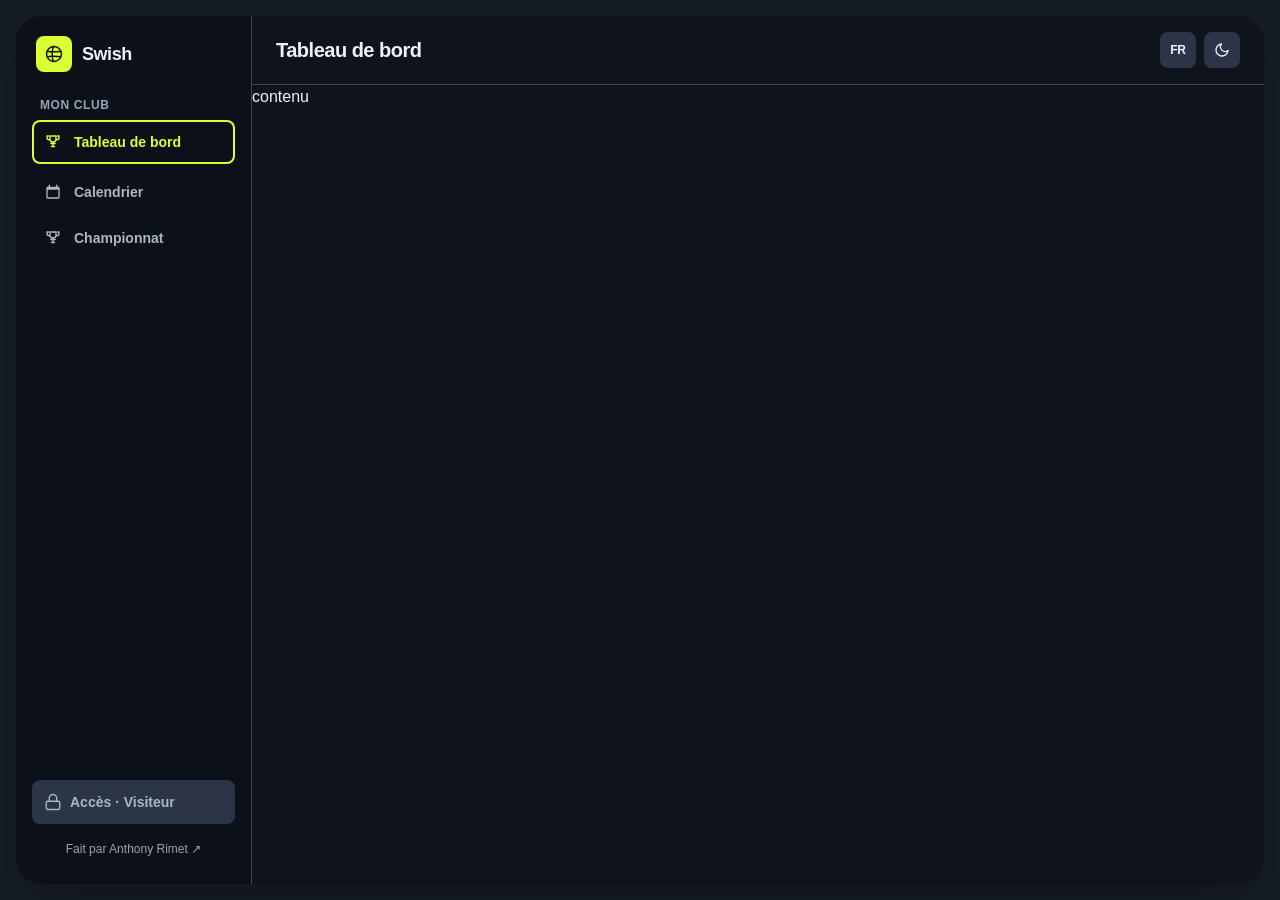
Scenario: the access entry point › states the current role, takes another on entering a code and closes, and locks
Click the button "Accès · Visiteur" at (134, 802), box top-left (32, 780), bottom-right (235, 824)
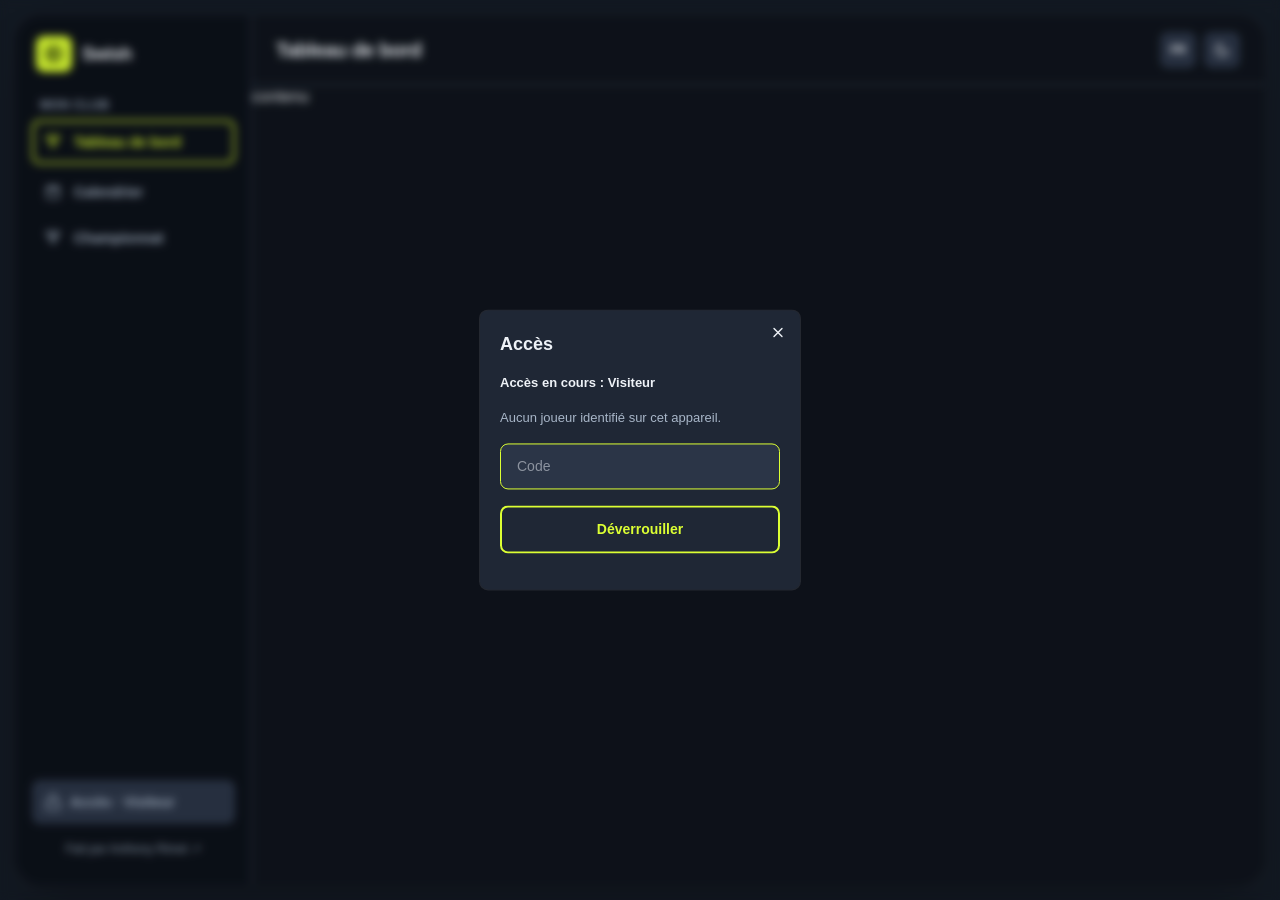
Result: the text "Accès en cours : Visiteur" is shown at top-left (500, 375), bottom-right (655, 390)
Type "marque" into the password field named "Code d’accès" at (640, 467), box top-left (500, 444), bottom-right (780, 490)
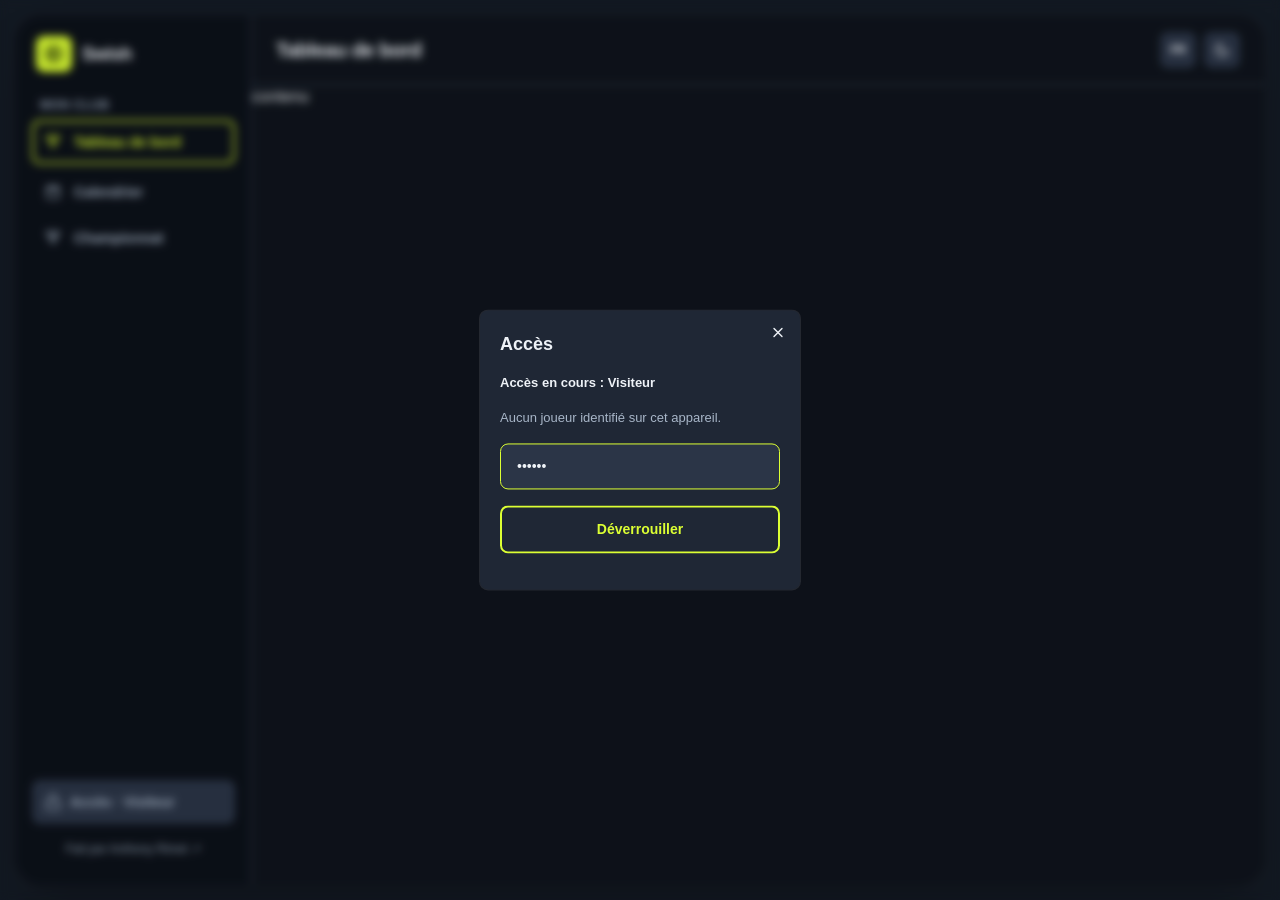
Click the button "Déverrouiller" at (640, 530), box top-left (500, 506), bottom-right (780, 554)
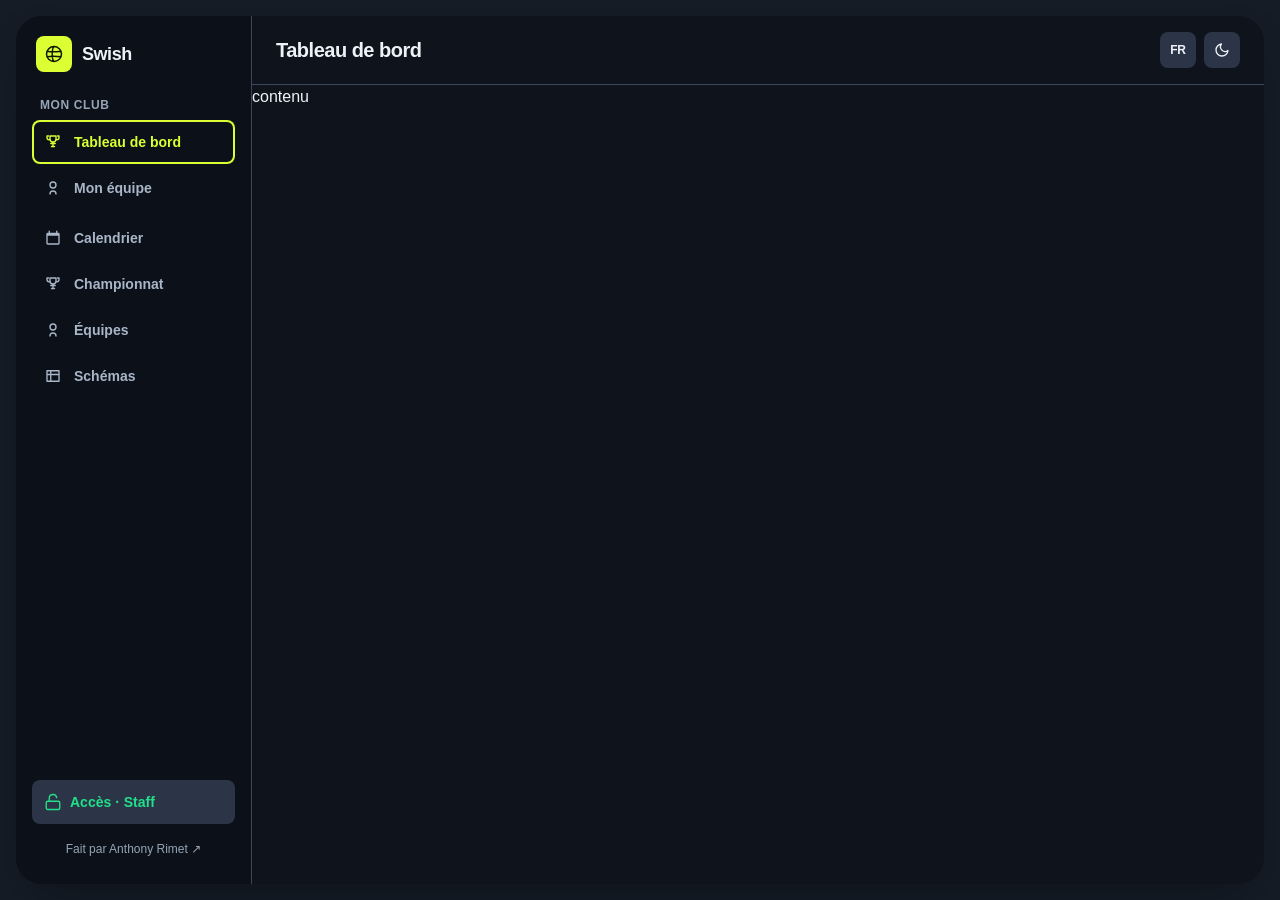
Result: the button "Accès · Staff" is shown
Click the button "Accès · Staff" at (134, 802), box top-left (32, 780), bottom-right (235, 824)
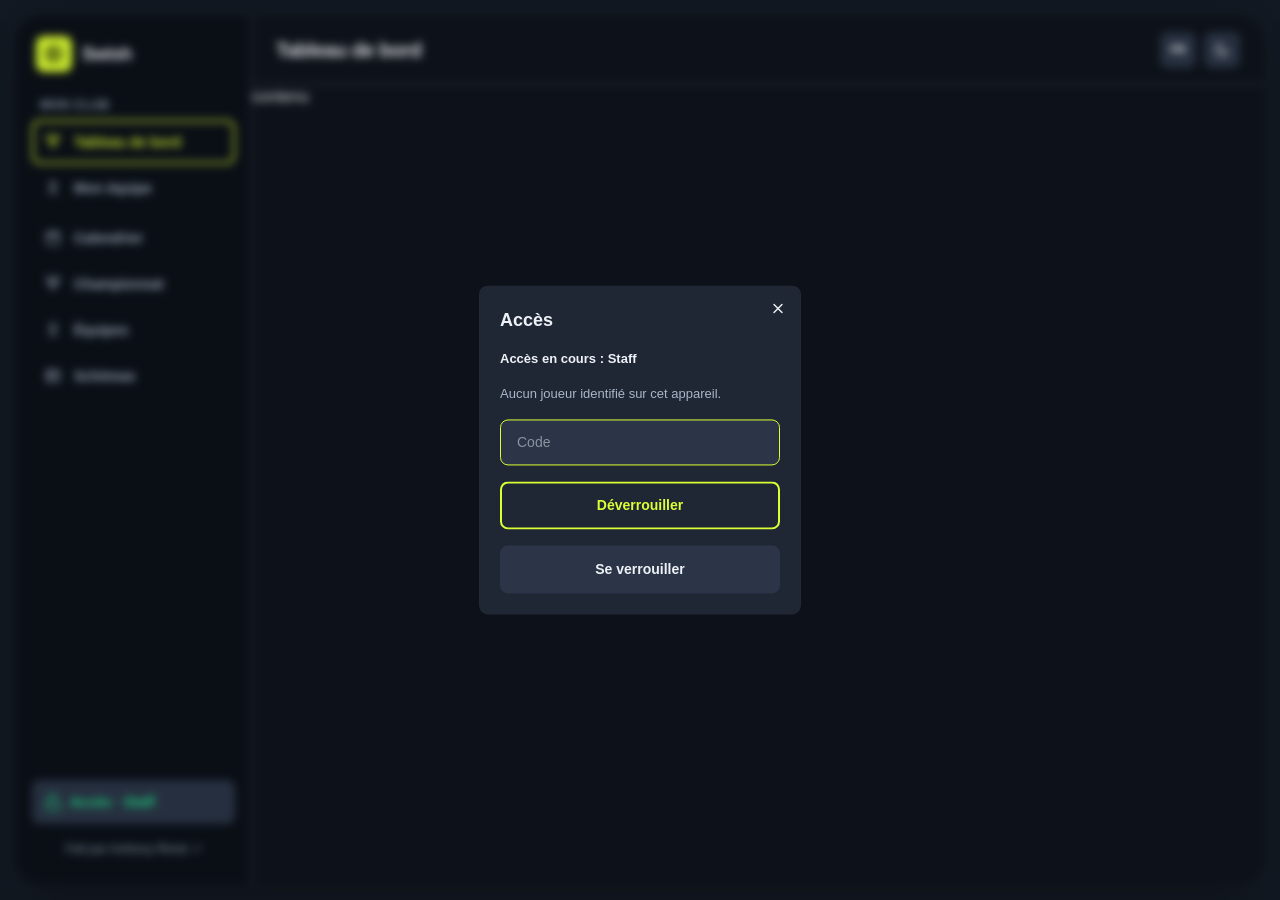
Result: the text "Accès en cours : Staff" is shown at top-left (500, 351), bottom-right (636, 366)
Click the button "Se verrouiller" at (640, 570), box top-left (500, 546), bottom-right (780, 594)
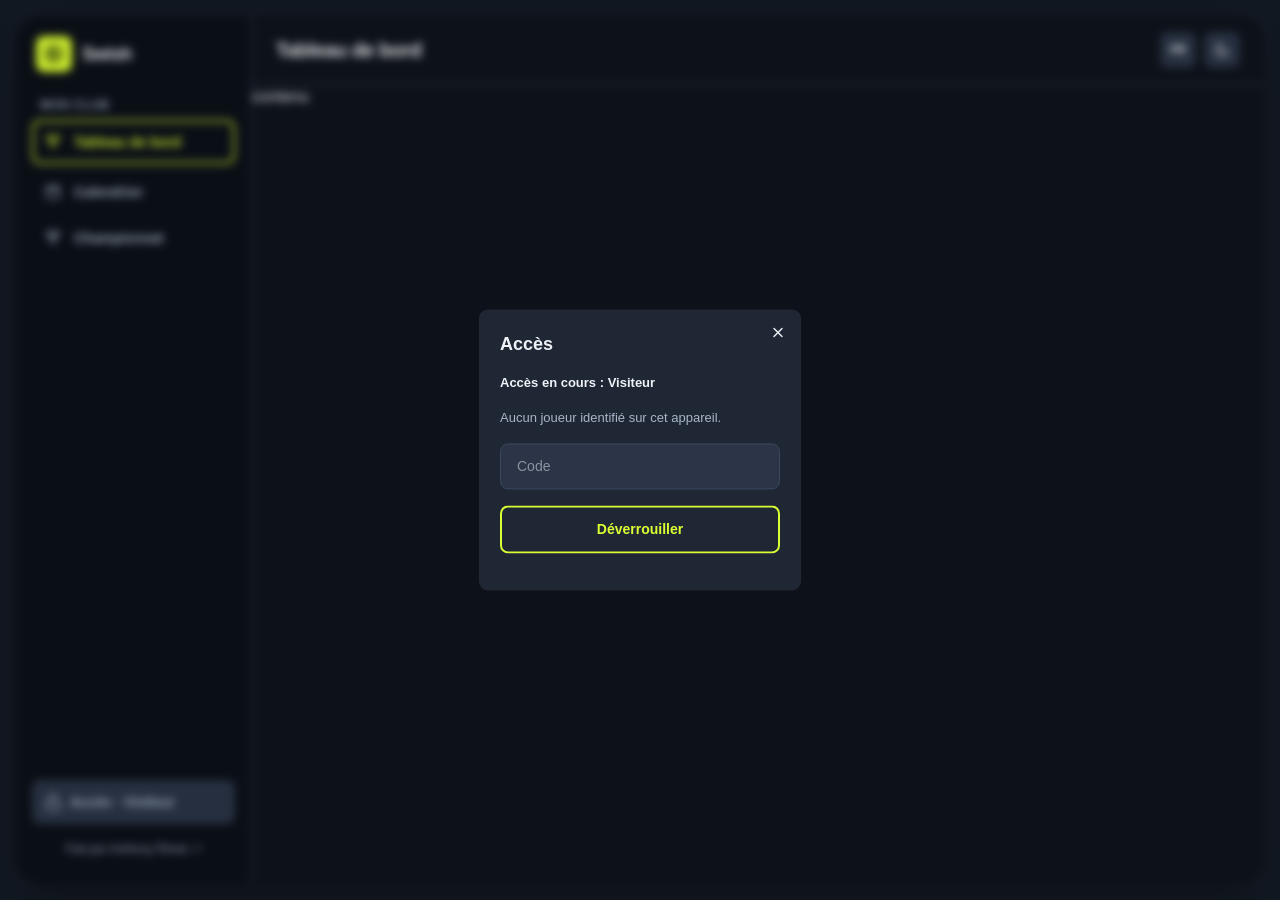
Result: the text "Accès en cours : Visiteur" is shown at top-left (500, 375), bottom-right (655, 390)
